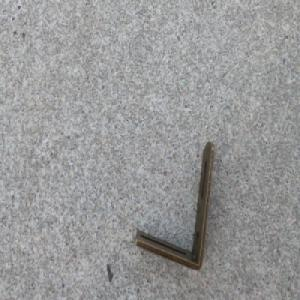MetalPart: (134, 140, 216, 272)
